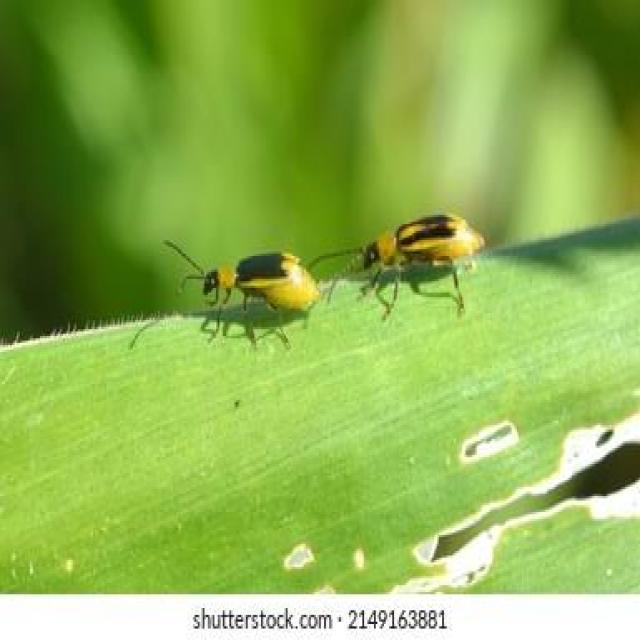trips: (309, 215, 487, 320), (162, 239, 320, 348)
